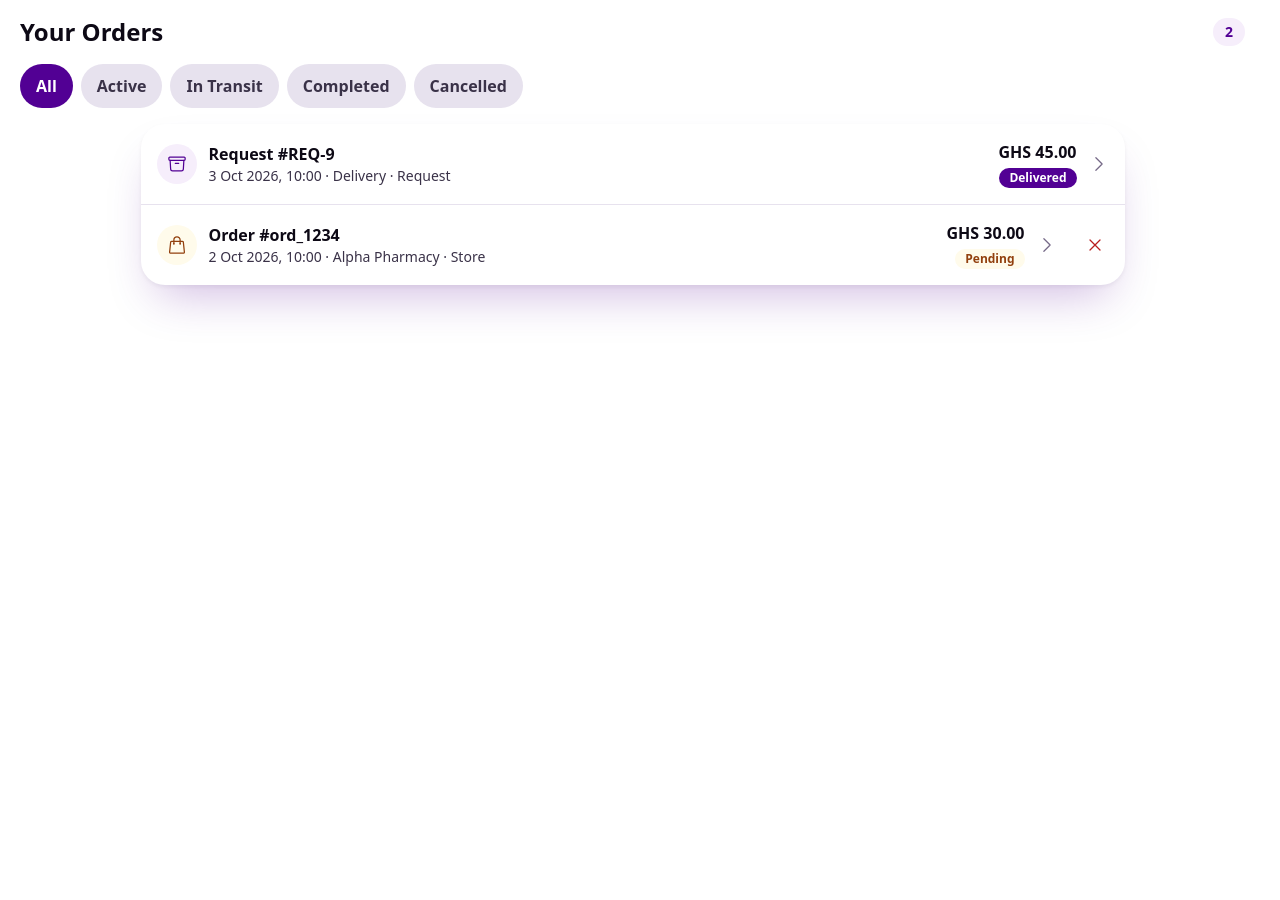
Test: Orders: detail dialogs › tells the customer, as an alert, when details fail to load
What coordinates should you click on to do the following:
click the button that starts with "Order #ord_1234"
I would click on:
 (176, 245)
Its box is [140,205,1072,285].
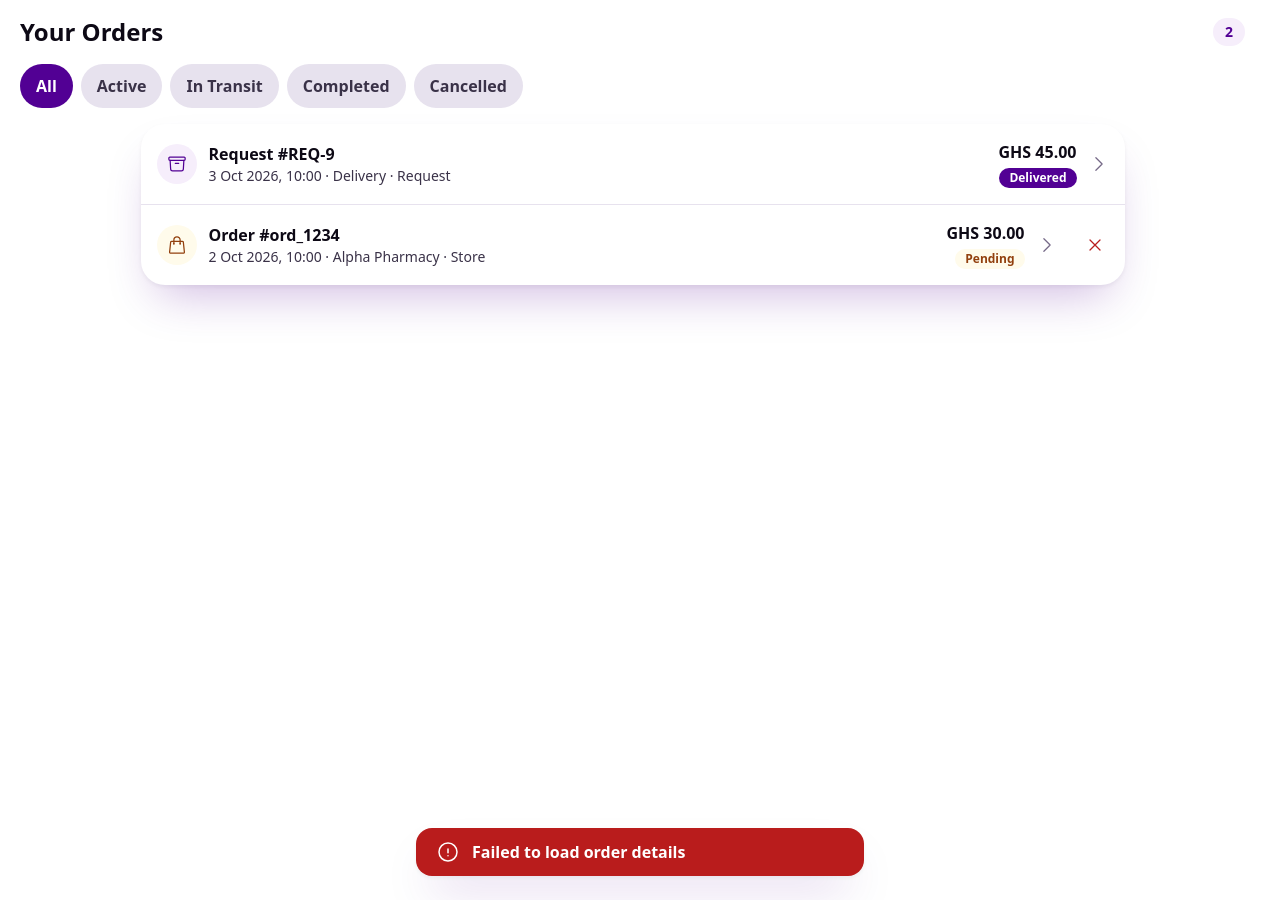
Result: the message with test id "toast" reads "Failed to load order details" at [472,841,686,863]
